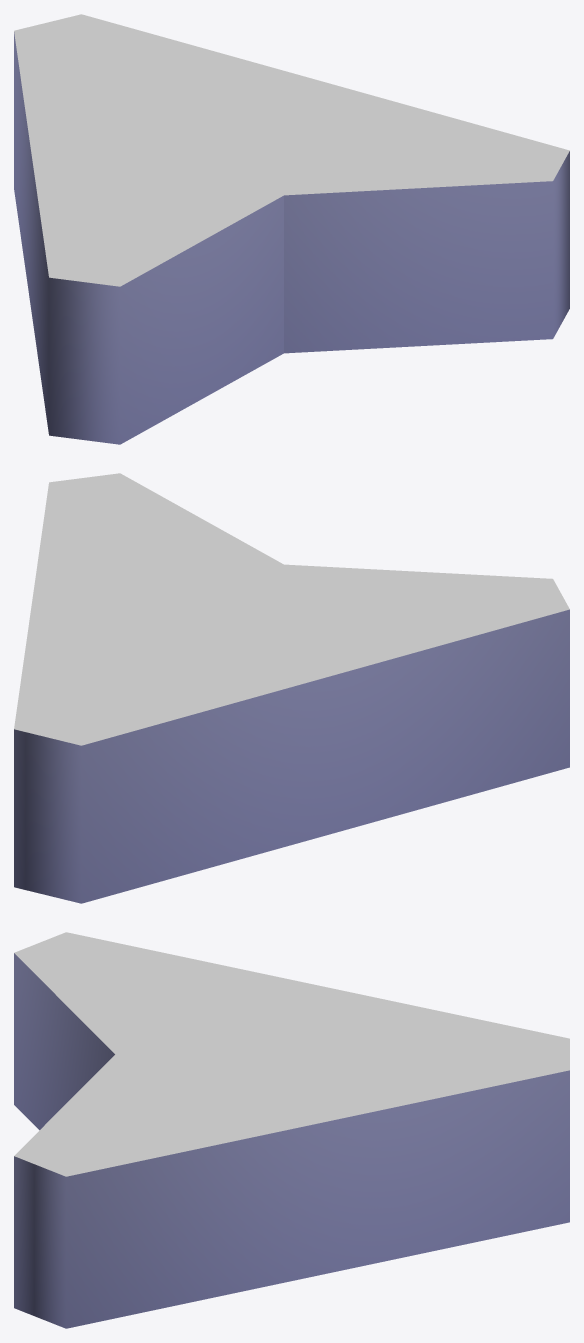
File: shape-arrow.glb
The picture shows the model from 3 angles, top to bottom: view 1: azimuth 30°, elevation 25°; view 2: azimuth 150°, elevation 25°; view 3: azimuth 270°, elevation 25°; orthographic projection. The views are drawn at different scales.
Parts seen in each view (by area): view 1: shape-arrow; view 2: shape-arrow; view 3: shape-arrow.
Part boxes in pixels (<box>): shape-arrow: <box>14,14,569,444</box>; shape-arrow: <box>14,473,569,903</box>; shape-arrow: <box>14,932,569,1328</box>.
Bounding box in the file's own units: 0.2156 × 0.0625 × 0.2071.
